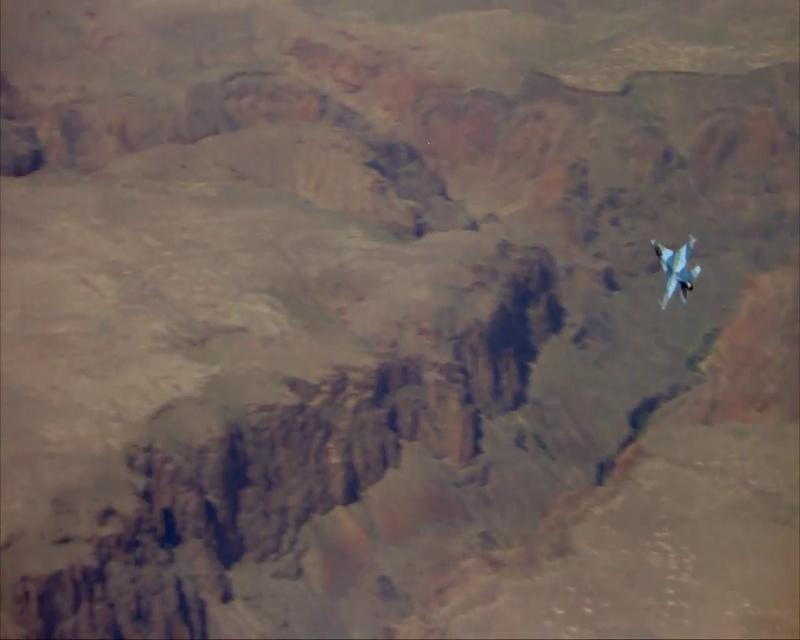UAV: (650, 231, 704, 310)
